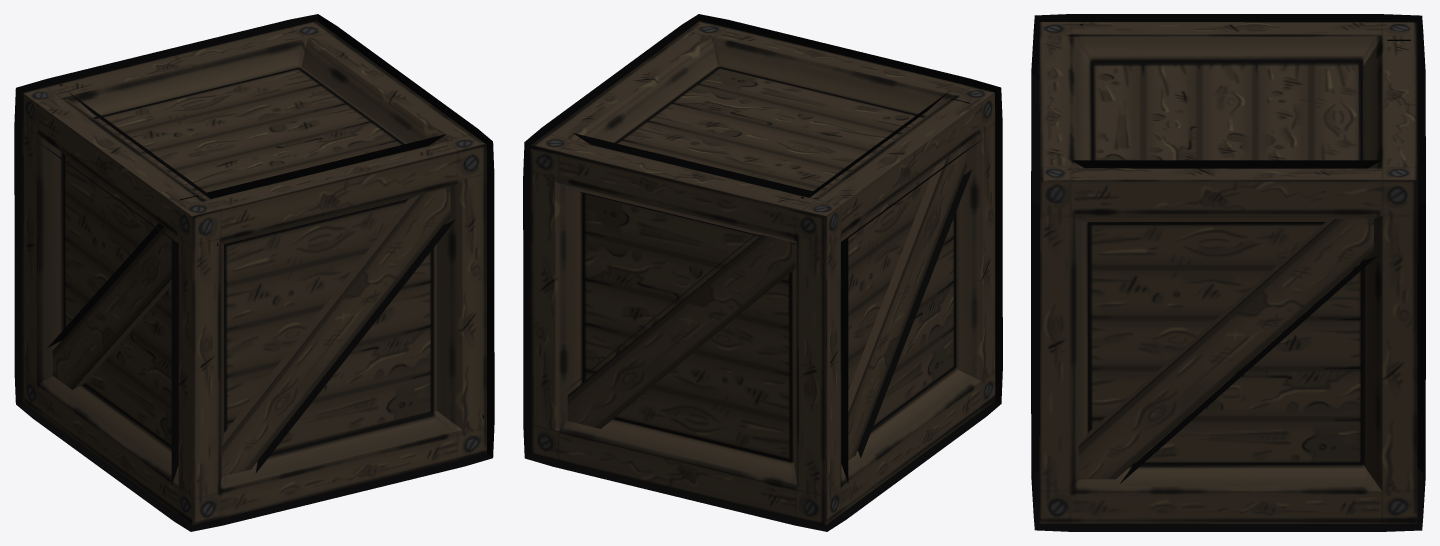
The model's file is caveCrate.fbx.
The picture shows the model from 3 angles, left to right: view 1: azimuth 30°, elevation 25°; view 2: azimuth 150°, elevation 25°; view 3: azimuth 270°, elevation 25°; orthographic projection. The views are drawn at different scales.
Visible parts, largest first — view 1: caveCube, caveCube1; view 2: caveCube, caveCube1; view 3: caveCube, caveCube1.
Boxes of the visible parts, x1,y1,x2,y2 form: caveCube: (22, 20, 486, 525); caveCube1: (14, 14, 494, 531); caveCube: (530, 20, 995, 525); caveCube1: (523, 14, 1002, 531); caveCube: (1039, 22, 1417, 523); caveCube1: (1031, 14, 1425, 531).
Size of the model in its own units: 4.61 by 4.61 by 4.62.
2 materials, 1 textured.
